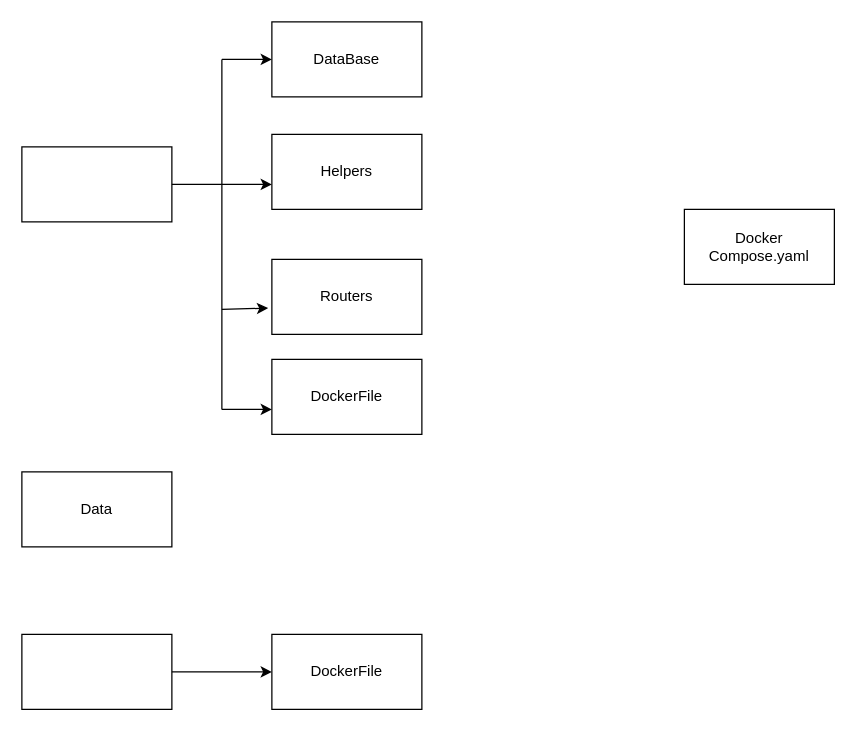
This 856x731 diagram has some shape labels left out. The shapes that lost their labels are listed below. From the top down, each one's box as (x1, y1, x2, y2) in pixels, then its label:
(21, 146, 172, 222): API
(21, 633, 172, 709): DB
